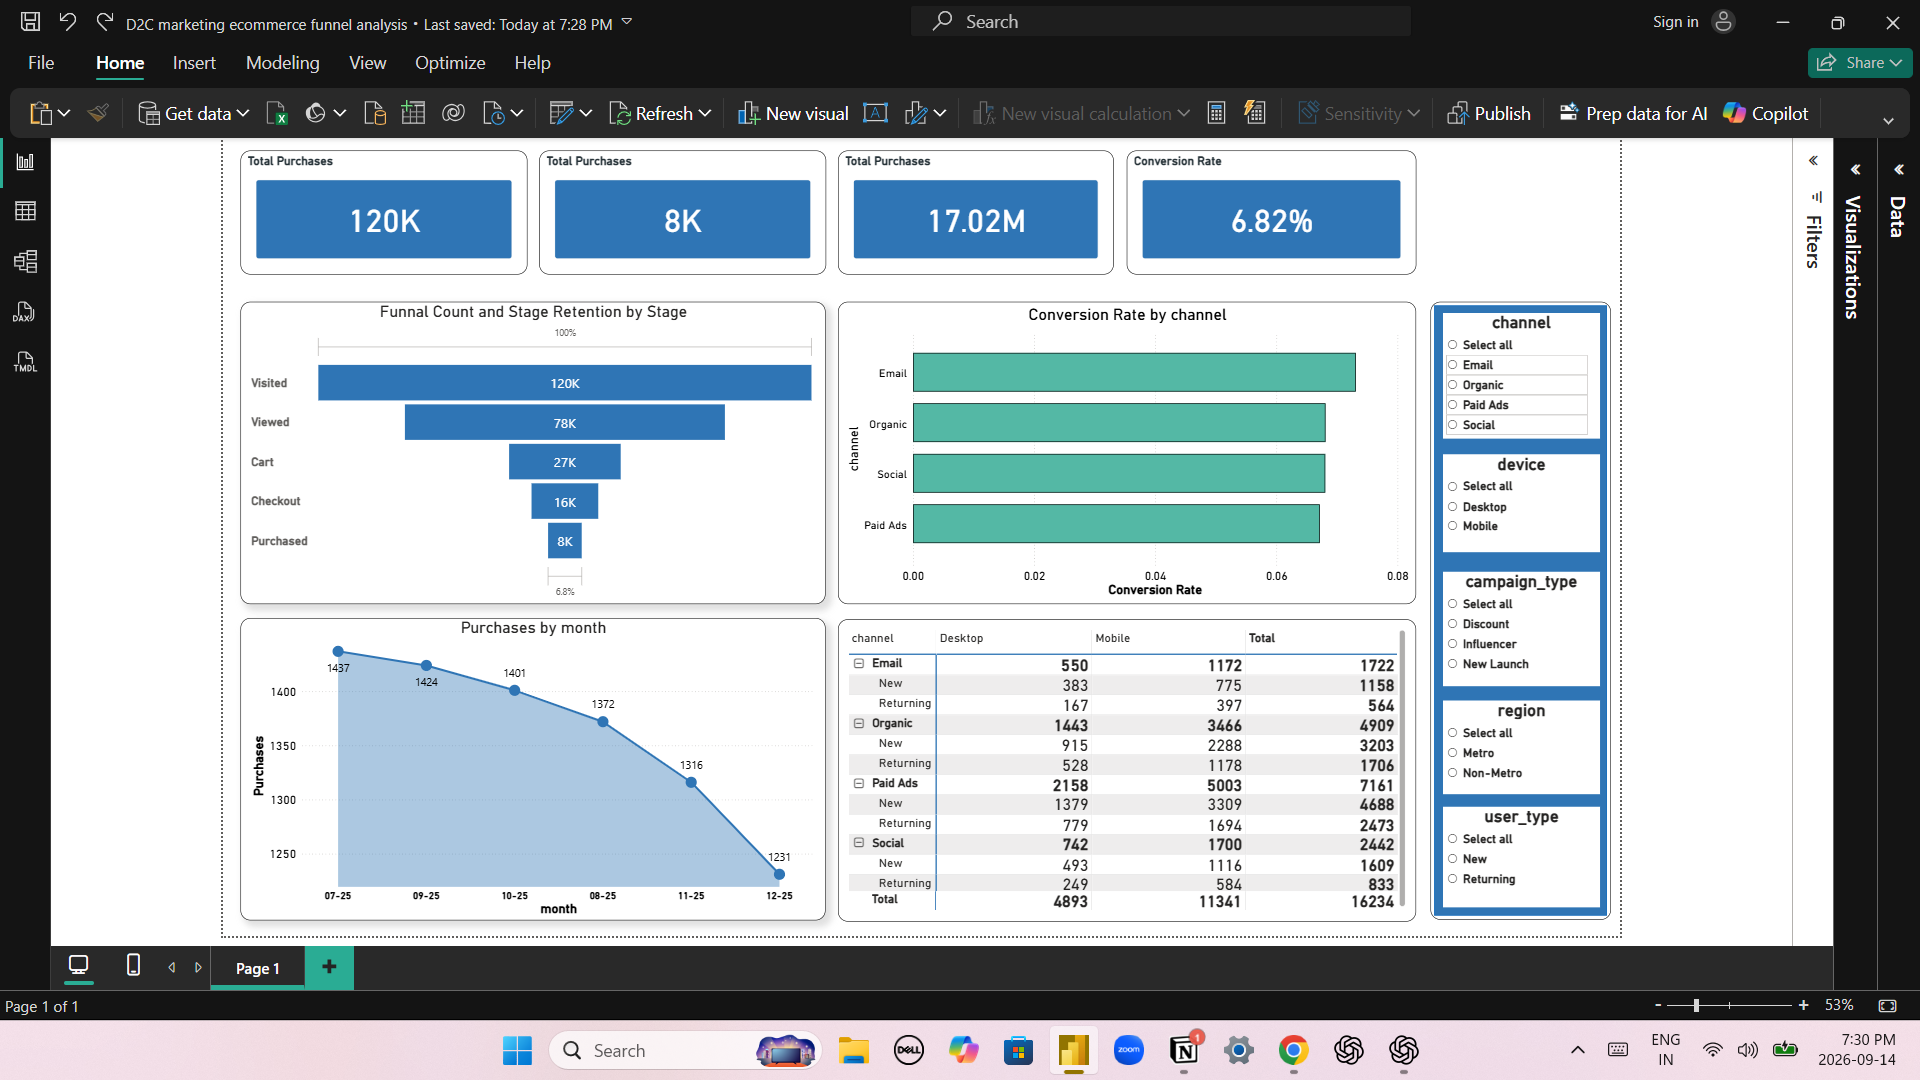

The dashboard page shown, as its layout file describes it:
{"tool":"powerbi","page":{"name":"Page 1","canvas":[2100,1200],"ordinal":0},"visuals":[{"type":"funnel","fields":{"Category":["FunnelStage.Stage"],"Y":["Funnel_data.Funnal Count"]},"box":[35.7,248,879.2,454.6],"z":0},{"type":"cardVisual","title":"Conversion Rate","fields":{"Data":["Funnel_data.Conversion Rate"]},"box":[1358,18.7,435.4,186.6],"z":1000},{"type":"clusteredBarChart","fields":{"Category":["Funnel_data.channel"],"Y":["Funnel_data.Conversion Rate"]},"box":[924.7,246.7,868.7,454],"z":2000},{"type":"lineChart","fields":{"Category":["Funnel_data.month"],"Y":["Funnel_data.Purchases"]},"box":[35.7,723.2,869.8,452.7],"z":3000},{"type":"pivotTable","fields":{"Rows":["Funnel_data.channel","Funnel_data.user_type"],"Columns":["Funnel_data.device"],"Values":["Sum(Funnel_data.checkout_started)"]},"box":[924.7,723.6,868.7,454],"z":4000},{"type":"cardVisual","title":"Total Purchases","fields":{"Data":["Funnel_data.Total Purchases"]},"box":[474.8,18.7,431.2,186.6],"z":5000},{"type":"cardVisual","title":"Total Purchases","fields":{"Data":["Funnel_data.Total Revenue"]},"box":[924.7,18.7,414.7,186.6],"z":6000},{"type":"cardVisual","title":"Total Purchases","fields":{"Data":["Funnel_data.Visitors"]},"box":[27,18.7,431.2,186.6],"z":7000},{"type":"shape","box":[1814.1,246.7,271.6,928.8],"z":7500},{"type":"listSlicer","fields":{"Values":["Funnel_data.channel"]},"box":[1832.8,263.3,236.4,188.7],"z":8000},{"type":"listSlicer","fields":{"Values":["Funnel_data.device"]},"box":[1832.8,474.8,236.4,147.2],"z":9000},{"type":"listSlicer","fields":{"Values":["Funnel_data.campaign_type"]},"box":[1832.8,651,236.4,172.1],"z":10000},{"type":"listSlicer","fields":{"Values":["Funnel_data.region"]},"box":[1832.8,845.9,236.4,141],"z":11000},{"type":"listSlicer","fields":{"Values":["Funnel_data.user_type"]},"box":[1832.8,1005.5,236.4,151.3],"z":13000}]}

Visuals, with their boxes on the page's 2100x1200 design canvas (x1, y1, x2, y2). These are canvas units, not pixel positions in the 1920x1080 screenshot, which may show the page scaled, cropped or inside an application window:
funnel - FunnelStage.Stage x Funnel_data.Funnal Count: <region>36, 248, 915, 703</region>
"Conversion Rate" cardVisual: <region>1358, 19, 1793, 205</region>
clusteredBarChart - Funnel_data.channel x Funnel_data.Conversion Rate: <region>925, 247, 1793, 701</region>
lineChart - Funnel_data.month x Funnel_data.Purchases: <region>36, 723, 906, 1176</region>
pivotTable - Funnel_data.channel x Funnel_data.user_type: <region>925, 724, 1793, 1178</region>
"Total Purchases" cardVisual: <region>475, 19, 906, 205</region>
"Total Purchases" cardVisual: <region>925, 19, 1339, 205</region>
"Total Purchases" cardVisual: <region>27, 19, 458, 205</region>
shape: <region>1814, 247, 2086, 1176</region>
listSlicer - Funnel_data.channel: <region>1833, 263, 2069, 452</region>
listSlicer - Funnel_data.device: <region>1833, 475, 2069, 622</region>
listSlicer - Funnel_data.campaign_type: <region>1833, 651, 2069, 823</region>
listSlicer - Funnel_data.region: <region>1833, 846, 2069, 987</region>
listSlicer - Funnel_data.user_type: <region>1833, 1006, 2069, 1157</region>
